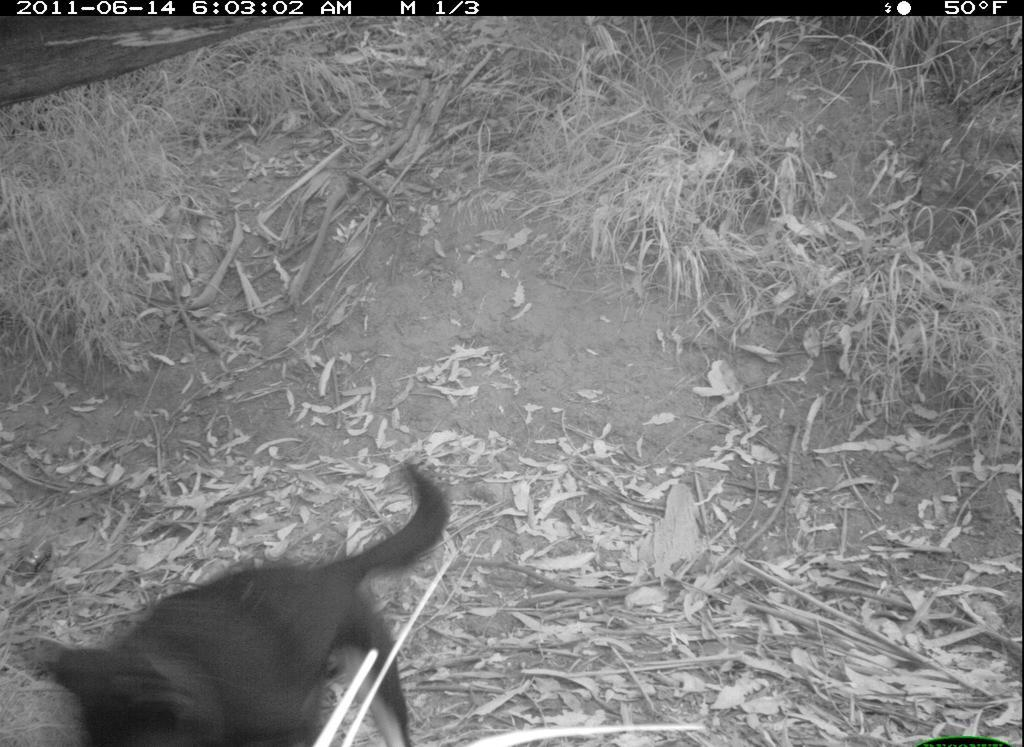dog: (8, 452, 462, 672)
